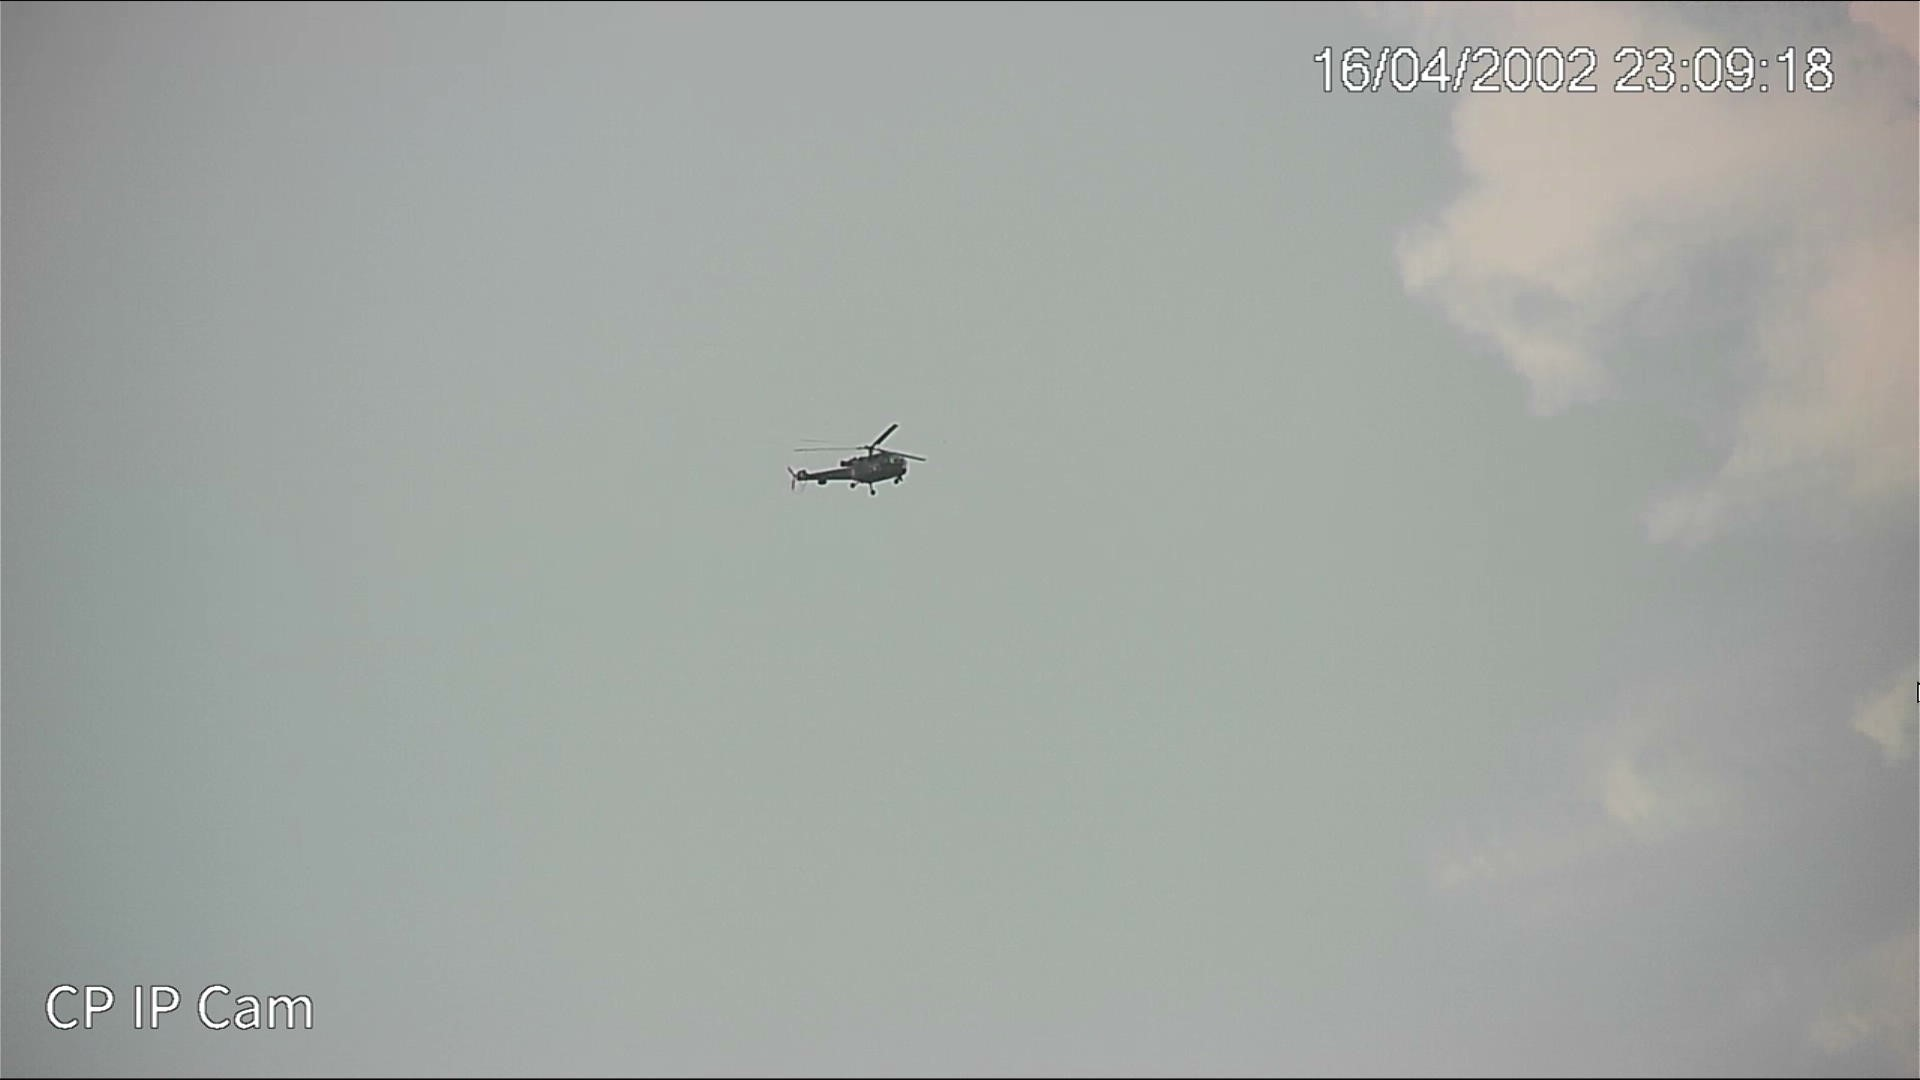SU_30: (782, 444, 918, 495)
